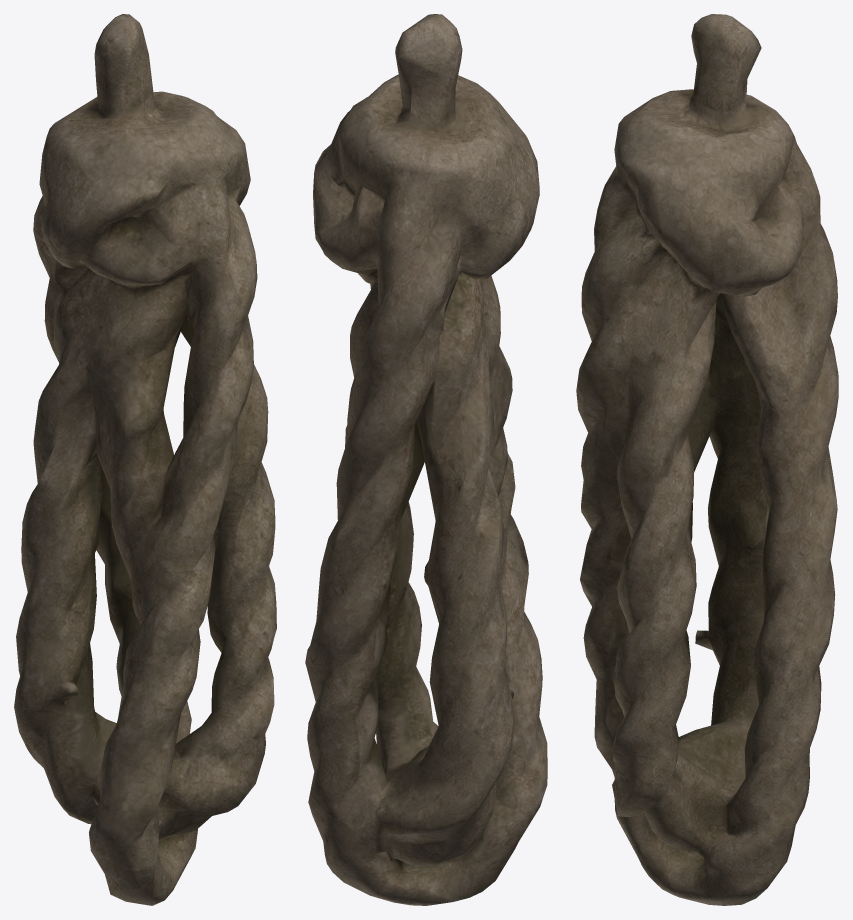
Rendered from rope.glb.
3 renders of one model, left to right at view 1: azimuth 30°, elevation 25°; view 2: azimuth 150°, elevation 25°; view 3: azimuth 270°, elevation 25°, orthographic. The views are drawn at different scales.
Size of the model in its own units: 0.4717 by 1.89 by 0.5155.
Materials: 1 (1 with a texture image).
